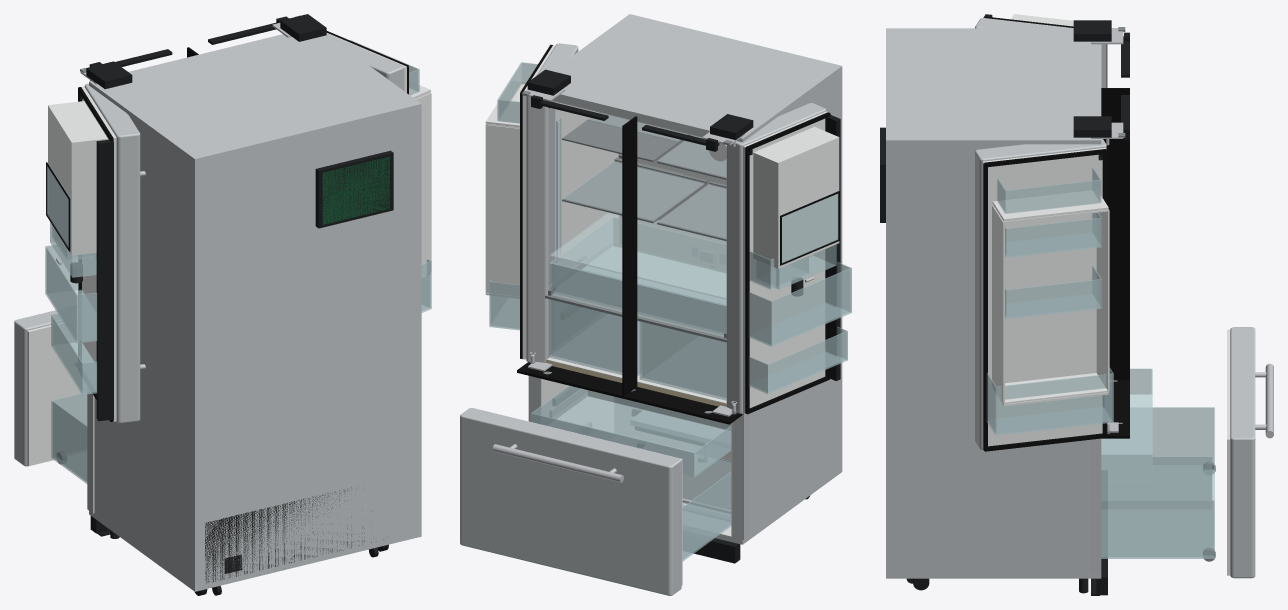
File: LFXS27566S_open.glb
3 views of the same model, side by side, from view 1: azimuth 30°, elevation 25°; view 2: azimuth 150°, elevation 25°; view 3: azimuth 270°, elevation 25° (orthographic). The views are drawn at different scales.
Parts seen in each view (by area): view 1: shell.004 Cabinet back panel + rear insulation [â] (D), shell.001 Cabinet side panel L [â] (C), shell.003 Cabinet top panel [â] (C), doors.044 Left refrigerator door slab (PCM stainless, foam) , shell.002 Cabinet side panel R [â] (C), doors.060 In-door ice maker housing (Slim SpacePlus) [AEQ731, doors.118 Freezer drawer liner [ADD73719008] (C), doors.066 Centre mullion (flipper), heated [AGU75188619] (C), mech.224 PCB cover / case (outer) [MCK67464101] (C), mech.201 Machine room cover [ACQ85930901] (C), mech.197 Main PCB in case [EBR74796443] (C), doors.064 Gallon door bin (L) [MAN63048701] (P) (+14 smaller); view 2: doors.117 Freezer drawer front (foam, stainless) [ADC7392810, shell.003 Cabinet top panel [â] (C), shell.001 Cabinet side panel L [â] (C), fresh.141 Glide N' Serve drawer [AJP73574805] (P), doors.060 In-door ice maker housing (Slim SpacePlus) [AEQ731, freezer.123 Upper pull-out tray [AJP73574504] (P), doors.045 Door liner L [â] (P), fresh.142 Glide N' Serve glass cover [ACQ85891502] (P), doors.091 Right refrigerator door slab (PCM stainless, foam), shell.004 Cabinet back panel + rear insulation [â] (D), shell.007 Fresh-food inner liner (ABS) 818x1066x575 [â] (D), doors.104 Door-in-Door 'Home Bar' case [MBN63442501] (P) (+38 smaller); view 3: shell.002 Cabinet side panel R [â] (C), shell.003 Cabinet top panel [â] (C), doors.092 Door liner R [â] (P), freezer.120 Durabase lower basket + divider [AJP73594404] (P, shell.004 Cabinet back panel + rear insulation [â] (D), doors.104 Door-in-Door 'Home Bar' case [MBN63442501] (P), doors.117 Freezer drawer front (foam, stainless) [ADC7392810, doors.115 Centre door seam [â] (P), doors.108 Gallon door bin (R) [MAN63048701] (P), freezer.123 Upper pull-out tray [AJP73574504] (P), doors.091 Right refrigerator door slab (PCM stainless, foam), doors.093 Door gasket R [ADX73550627] (C) (+13 smaller).
Boxes of the visible parts, box(x1,y1,x2,y2) form: shell.004 Cabinet back panel + rear insulation [â] (D): box(171, 88, 421, 591); shell.001 Cabinet side panel L [â] (C): box(89, 81, 206, 591); shell.003 Cabinet top panel [â] (C): box(89, 34, 421, 166); doors.044 Left refrigerator door slab (PCM stainless, foam) : box(84, 83, 140, 423); shell.002 Cabinet side panel R [â] (C): box(317, 35, 421, 532); doors.060 In-door ice maker housing (Slim SpacePlus) [AEQ731: box(48, 106, 107, 255); doors.118 Freezer drawer liner [ADD73719008] (C): box(27, 322, 86, 465); doors.066 Centre mullion (flipper), heated [AGU75188619] (C): box(96, 139, 113, 421); mech.224 PCB cover / case (outer) [MCK67464101] (C): box(315, 150, 393, 228); mech.201 Machine room cover [ACQ85930901] (C): box(205, 487, 387, 586); mech.197 Main PCB in case [EBR74796443] (C): box(322, 156, 389, 224); doors.064 Gallon door bin (L) [MAN63048701] (P): box(45, 245, 97, 343); doors.117 Freezer drawer front (foam, stainless) [ADC7392810: box(460, 408, 681, 595); shell.003 Cabinet top panel [â] (C): box(552, 14, 842, 142); shell.001 Cabinet side panel L [â] (C): box(732, 65, 842, 544); fresh.141 Glide N' Serve drawer [AJP73574805] (P): box(549, 217, 726, 334); doors.060 In-door ice maker housing (Slim SpacePlus) [AEQ731: box(753, 138, 839, 268); freezer.123 Upper pull-out tray [AJP73574504] (P): box(531, 385, 731, 477); doors.045 Door liner L [â] (P): box(743, 111, 827, 412); fresh.142 Glide N' Serve glass cover [ACQ85891502] (P): box(549, 212, 726, 299); doors.091 Right refrigerator door slab (PCM stainless, foam): box(526, 43, 578, 362); shell.004 Cabinet back panel + rear insulation [â] (D): box(609, 14, 842, 486); shell.007 Fresh-food inner liner (ABS) 818x1066x575 [â] (D): box(546, 100, 726, 403); doors.104 Door-in-Door 'Home Bar' case [MBN63442501] (P): box(485, 123, 519, 296); shell.002 Cabinet side panel R [â] (C): box(886, 134, 1101, 578); shell.003 Cabinet top panel [â] (C): box(886, 28, 1101, 148); doors.092 Door liner R [â] (P): box(982, 147, 1105, 448); freezer.120 Durabase lower basket + divider [AJP73594404] (P: box(1101, 407, 1214, 558); shell.004 Cabinet back panel + rear insulation [â] (D): box(886, 28, 933, 578); doors.104 Door-in-Door 'Home Bar' case [MBN63442501] (P): box(992, 204, 1109, 403); doors.117 Freezer drawer front (foam, stainless) [ADC7392810: box(1230, 327, 1255, 578); doors.115 Centre door seam [â] (P): box(1101, 88, 1129, 380); doors.108 Gallon door bin (R) [MAN63048701] (P): box(986, 367, 1113, 435); freezer.123 Upper pull-out tray [AJP73574504] (P): box(1101, 368, 1152, 481); doors.091 Right refrigerator door slab (PCM stainless, foam): box(975, 139, 1106, 450); doors.093 Door gasket R [ADX73550627] (C): box(983, 149, 1107, 451).
Size of the model in its own units: 1437 by 1772 by 1350.
